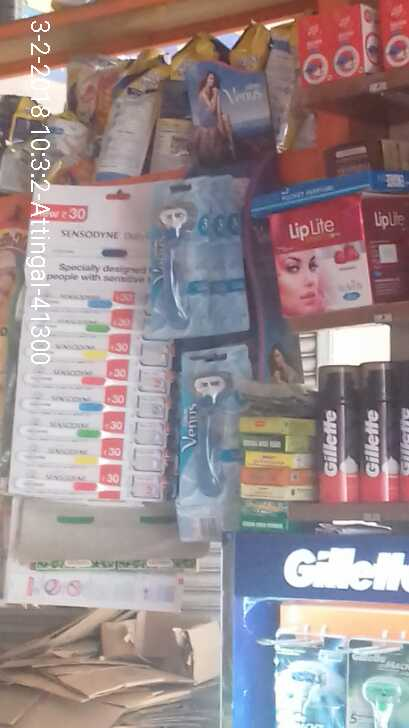beauty: (139, 169, 224, 342), (174, 357, 236, 508), (358, 356, 399, 511), (316, 359, 358, 503)
